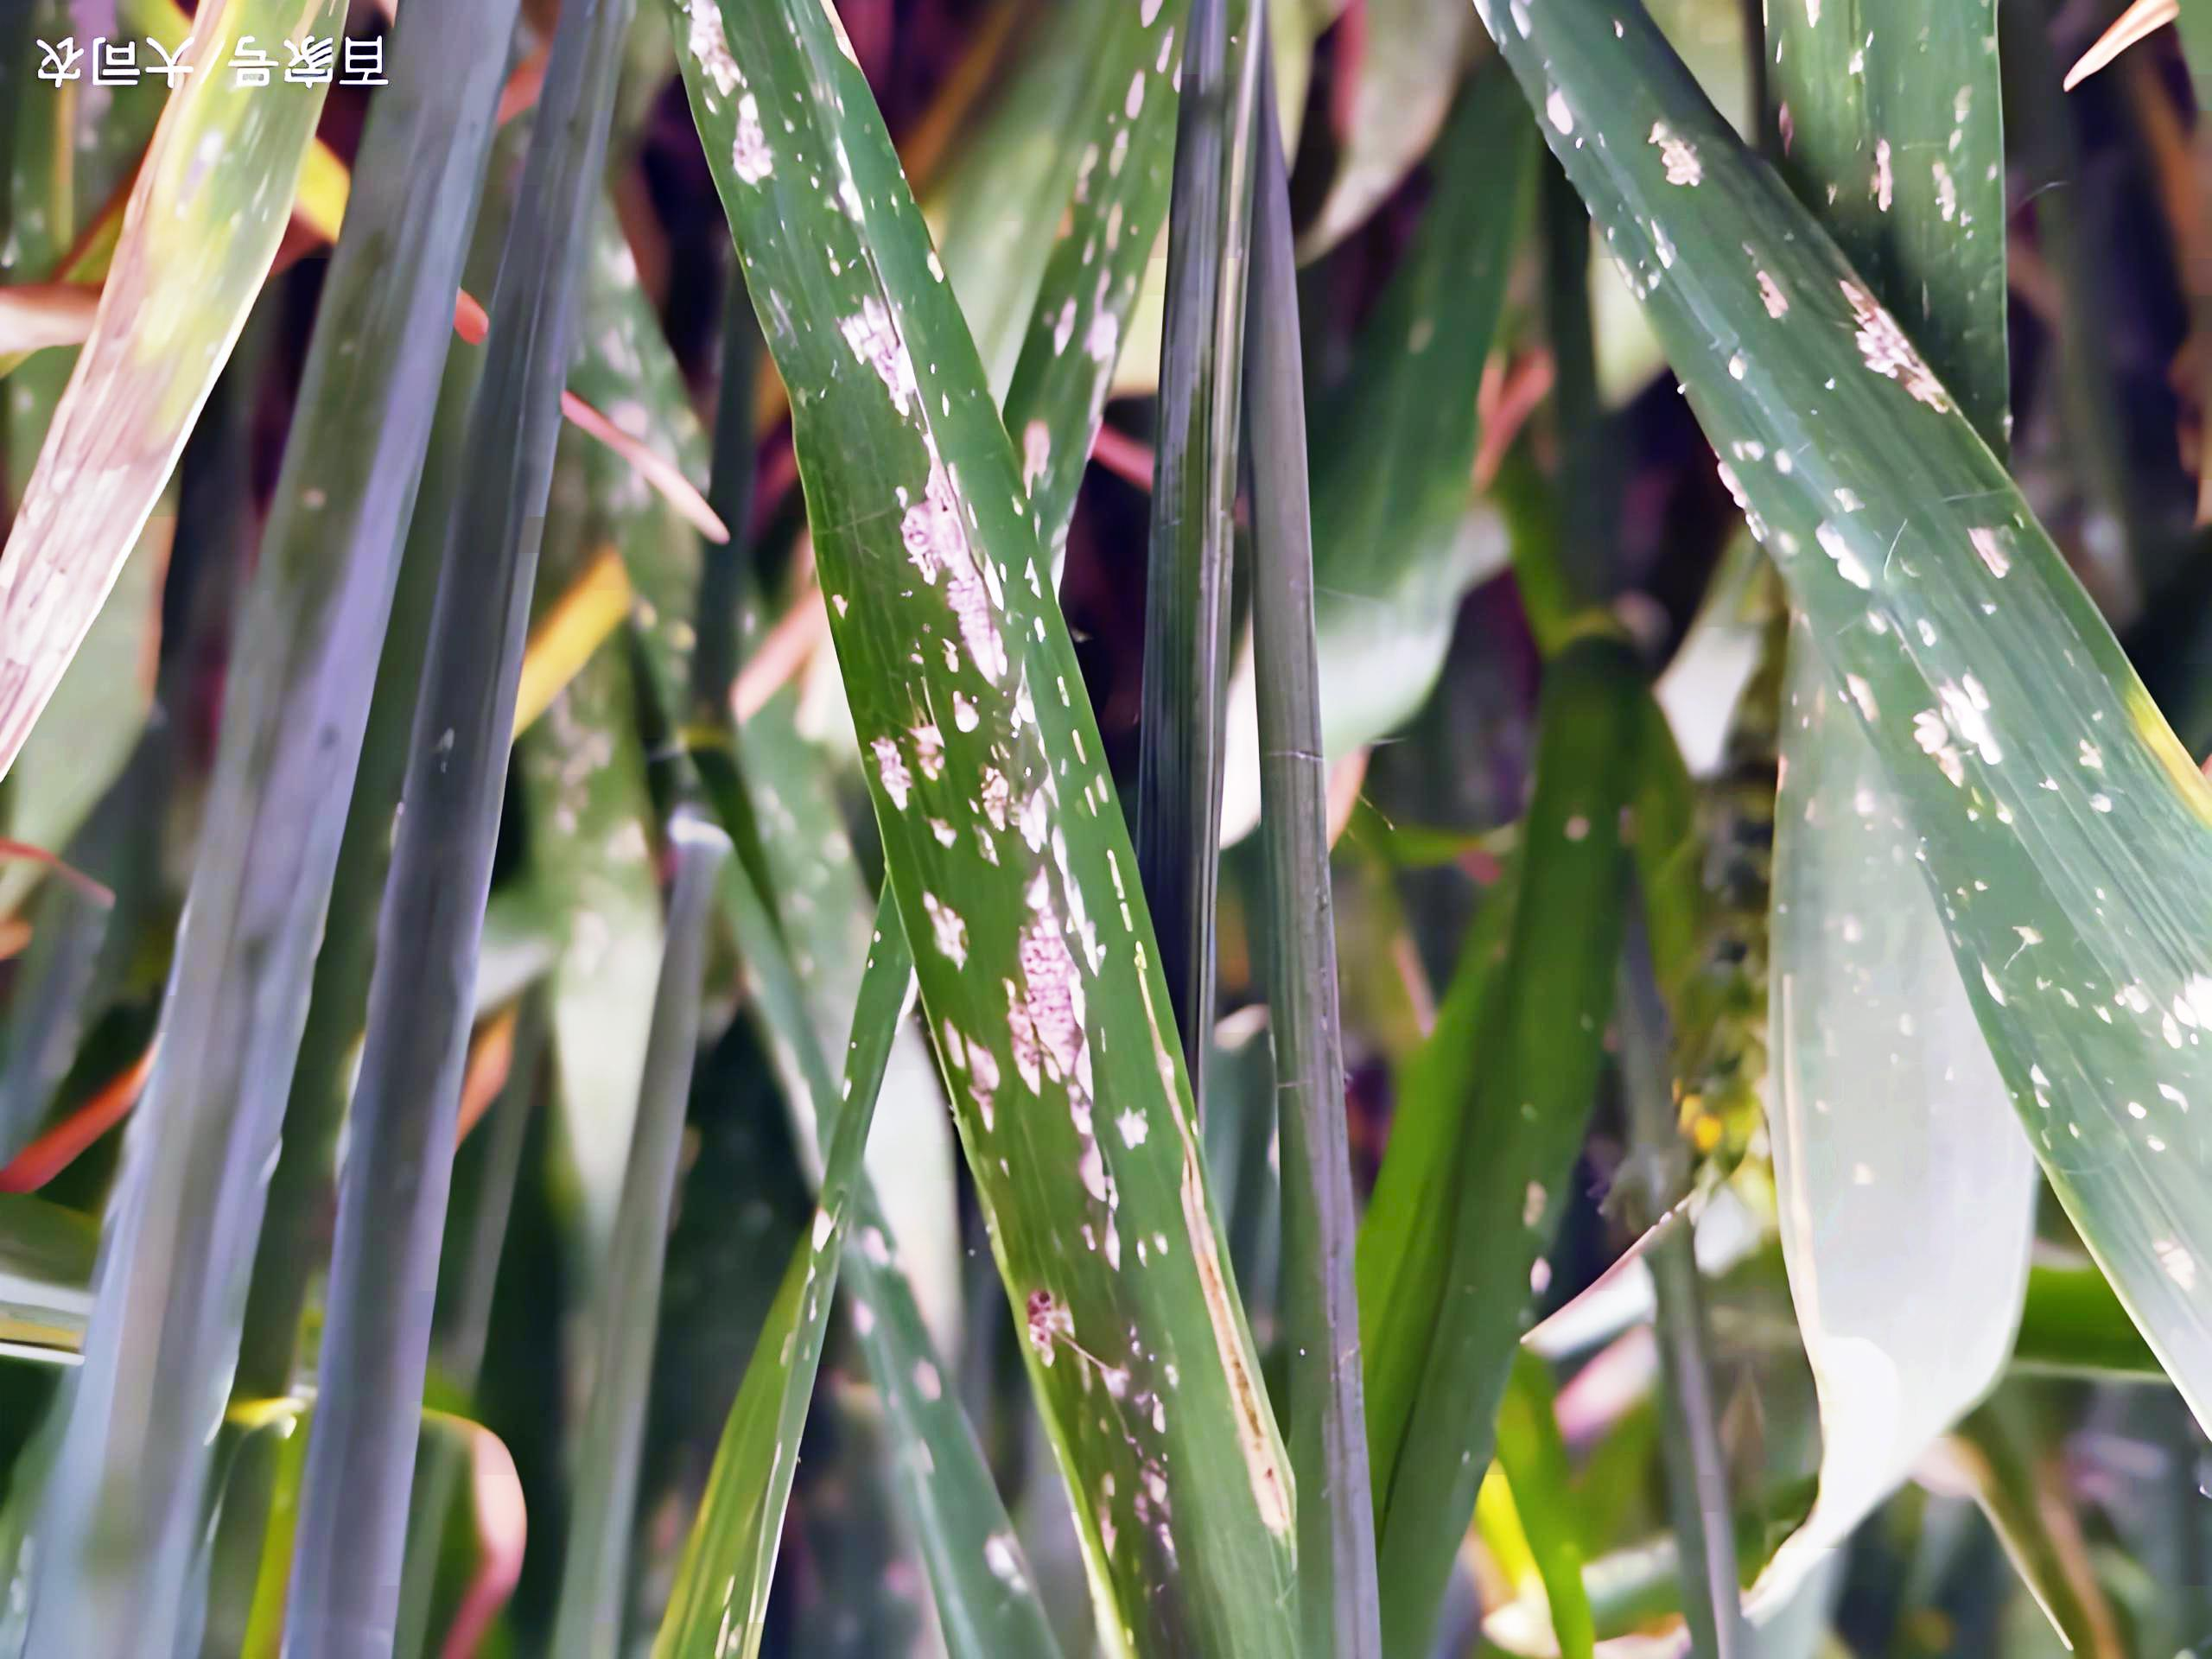Powdery Mildew: (763, 176, 1231, 1448)
